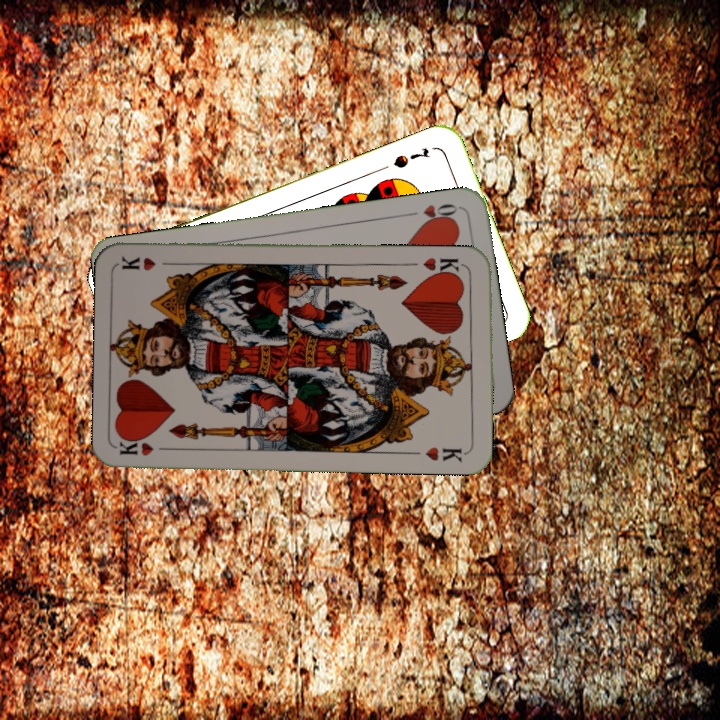HK: (117, 433, 176, 459), (419, 253, 469, 280)
HO: (402, 199, 461, 227)
S7: (389, 143, 433, 171)
